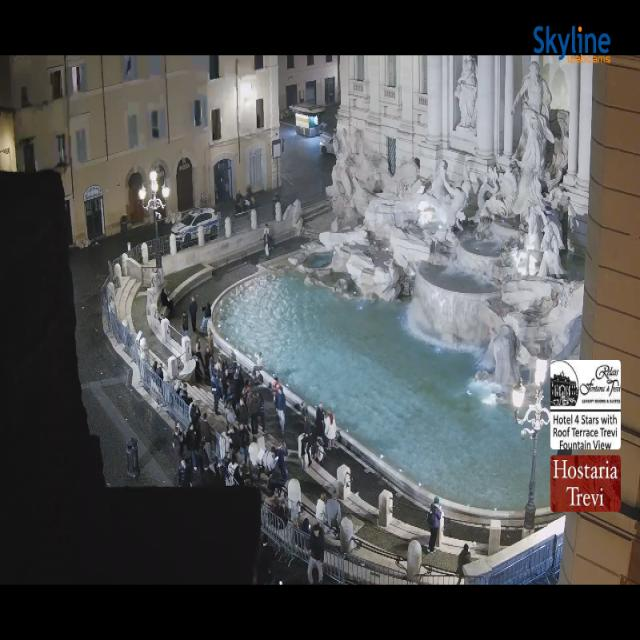person: (220, 424, 248, 485), (212, 424, 239, 485), (192, 445, 224, 487), (206, 428, 231, 477), (219, 359, 243, 401), (188, 402, 212, 442), (308, 524, 324, 583), (264, 492, 289, 529), (312, 403, 327, 462), (208, 357, 227, 403), (317, 489, 341, 524), (222, 431, 237, 484), (257, 535, 273, 584), (428, 497, 442, 552), (200, 303, 214, 356), (264, 493, 287, 524), (301, 418, 315, 468), (303, 438, 324, 468), (201, 422, 216, 463), (233, 355, 254, 384), (456, 544, 471, 584), (326, 490, 341, 530), (185, 424, 198, 470), (275, 493, 291, 529), (175, 382, 194, 412), (236, 363, 263, 384), (172, 423, 183, 474), (210, 335, 226, 370), (268, 464, 286, 494), (274, 491, 289, 527), (229, 364, 241, 409), (216, 172, 233, 203), (248, 436, 259, 482), (276, 440, 290, 476), (233, 457, 251, 485), (228, 451, 243, 484), (234, 457, 251, 485), (229, 362, 243, 396), (192, 345, 204, 384), (276, 442, 288, 481), (227, 425, 241, 458), (239, 423, 250, 465), (232, 368, 243, 409), (197, 437, 210, 471), (210, 366, 219, 415), (325, 410, 336, 450), (248, 392, 258, 434), (250, 432, 262, 467), (204, 337, 216, 372), (316, 403, 326, 444), (178, 459, 192, 488), (276, 386, 285, 431), (236, 383, 249, 414), (232, 370, 242, 410), (272, 377, 284, 410), (213, 457, 226, 487), (316, 413, 327, 448), (316, 493, 327, 527), (301, 437, 313, 468), (263, 448, 276, 476), (160, 288, 173, 316), (220, 452, 231, 485), (202, 464, 217, 488), (205, 348, 215, 384), (193, 409, 202, 447), (200, 301, 211, 332), (179, 460, 191, 488), (215, 355, 223, 397), (152, 362, 163, 392), (215, 172, 226, 202), (224, 357, 239, 379), (210, 462, 223, 487), (189, 402, 201, 429), (226, 366, 235, 402), (216, 368, 225, 404), (211, 449, 221, 481), (194, 337, 204, 369), (200, 413, 211, 442), (219, 369, 228, 404), (168, 378, 183, 399), (324, 410, 336, 436), (193, 353, 203, 384), (237, 398, 248, 425), (218, 351, 232, 372), (304, 408, 314, 437), (216, 173, 226, 202), (204, 346, 212, 382), (203, 302, 212, 334), (189, 296, 197, 332), (252, 352, 263, 378), (277, 442, 288, 468), (177, 382, 190, 404), (312, 440, 324, 463), (225, 402, 236, 427), (264, 495, 280, 512), (217, 460, 227, 487), (168, 377, 182, 396), (258, 393, 265, 431), (233, 465, 245, 487), (228, 358, 241, 378), (203, 348, 210, 384), (236, 365, 244, 396), (180, 383, 191, 405), (212, 349, 221, 375), (264, 224, 273, 250), (272, 377, 281, 403), (181, 383, 192, 404), (228, 360, 239, 381), (229, 351, 239, 374), (241, 380, 250, 405), (215, 353, 224, 378), (148, 358, 161, 375), (299, 518, 311, 536), (192, 469, 203, 488), (316, 403, 324, 429), (184, 383, 193, 405), (175, 420, 187, 436), (246, 186, 255, 207), (300, 518, 311, 535), (192, 470, 202, 488), (206, 335, 214, 357), (264, 224, 271, 249), (300, 405, 307, 430), (227, 358, 236, 377), (220, 353, 230, 370), (207, 335, 215, 356), (236, 192, 244, 212), (182, 312, 188, 336), (223, 356, 232, 372), (173, 379, 181, 397), (173, 379, 181, 395), (312, 566, 319, 584), (196, 358, 201, 382), (242, 196, 250, 211), (250, 448, 259, 461), (264, 238, 270, 257), (174, 380, 181, 396), (243, 196, 250, 211), (157, 365, 163, 382), (244, 197, 251, 211), (152, 360, 158, 375), (152, 360, 157, 374)
